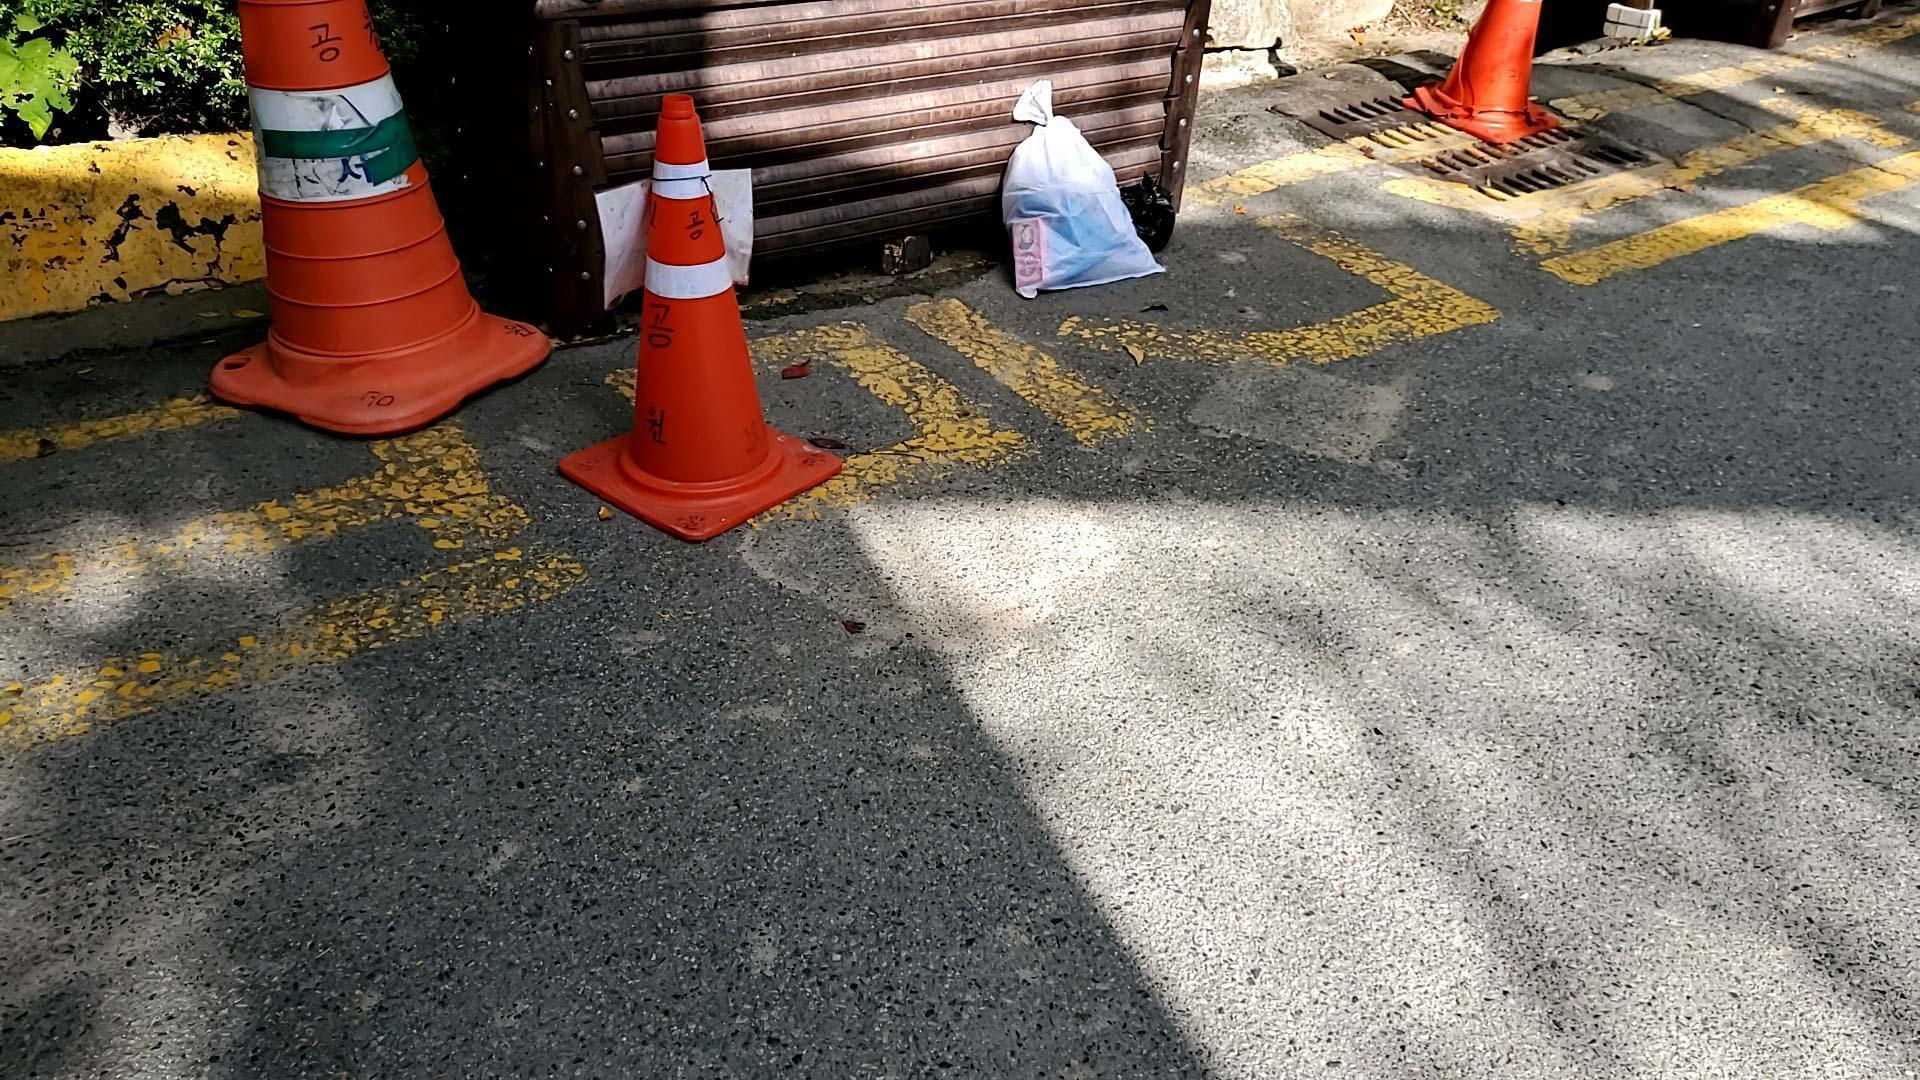black_bag: (1112, 167, 1191, 264)
white_bag: (975, 69, 1183, 303)
